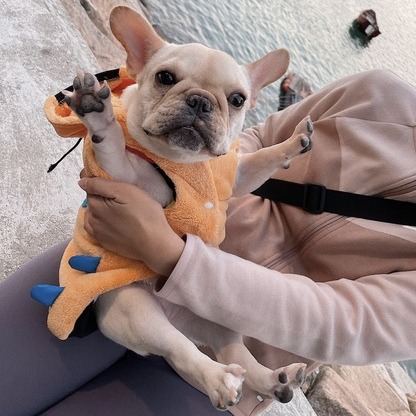bulldog: (60, 5, 316, 413)
